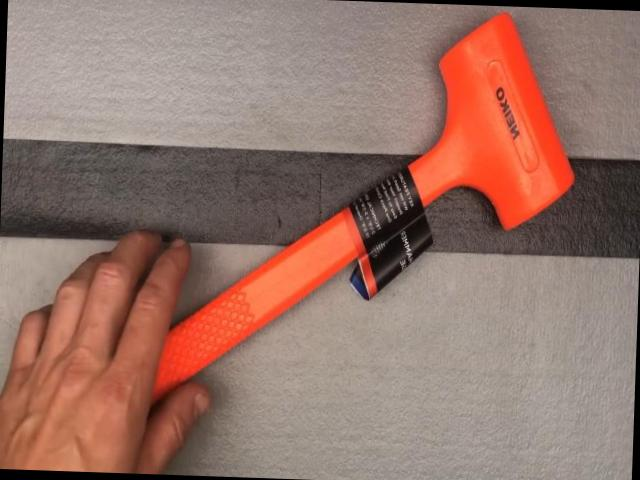hammer: (63, 0, 583, 460)
